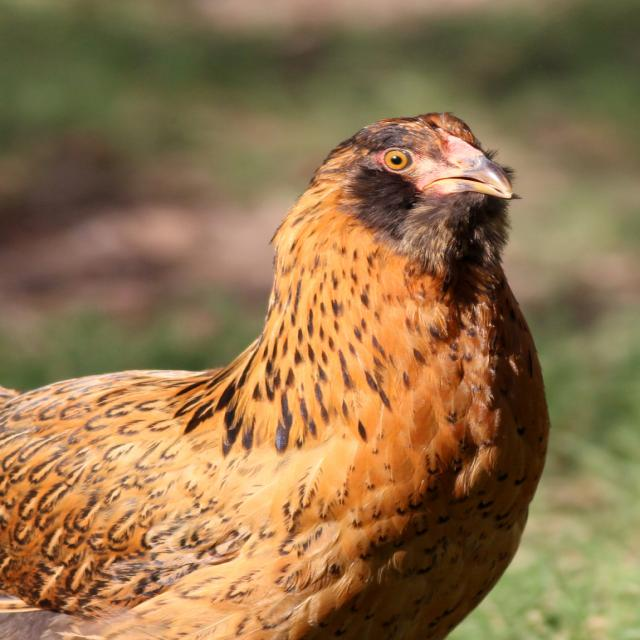Chicken: (0, 112, 553, 640)
